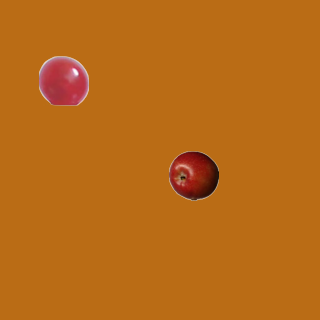Apple Braeburn: (168, 150, 218, 200)
Redcurrant: (38, 55, 88, 105)
